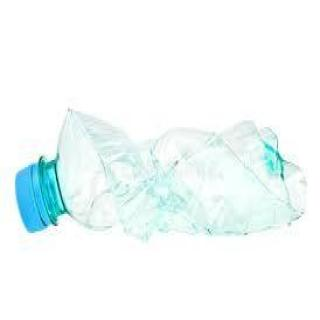Plastic-bottle: (13, 102, 311, 250)
